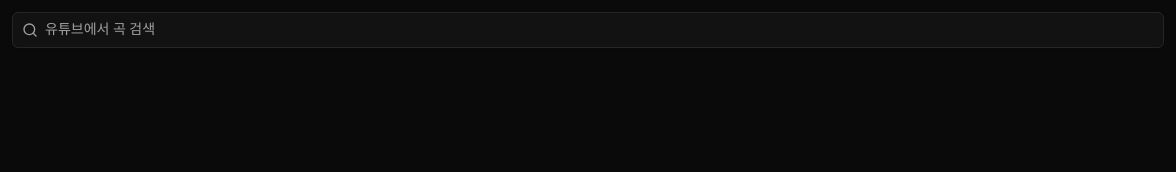
MusicSearch › 결과 없음 → 빈 상태 메시지
In the search field with test id "music-search-input": (588, 30) [12,12,1164,48], type "zzzz"
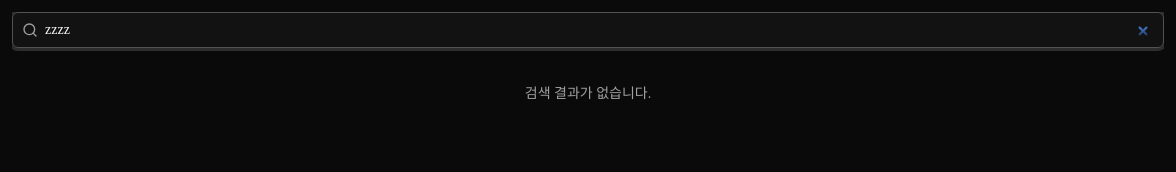
Result: the text "검색 결과가 없습니다." is shown at [525,86,651,101]
